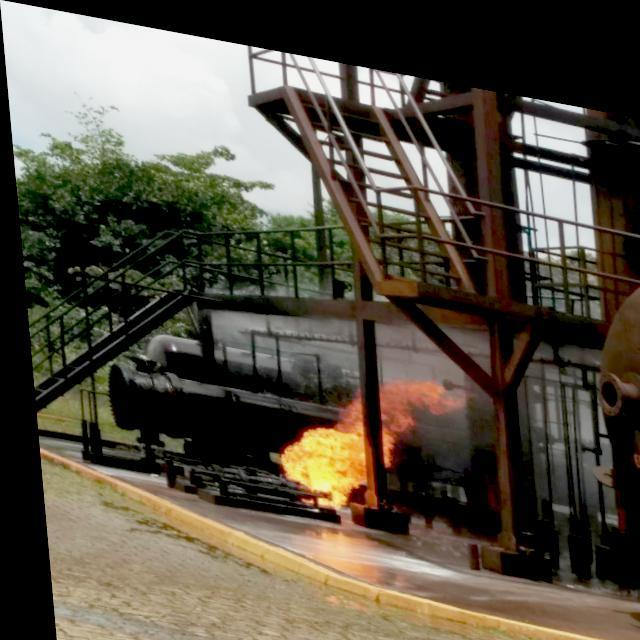Fire: (262, 342, 455, 518)
